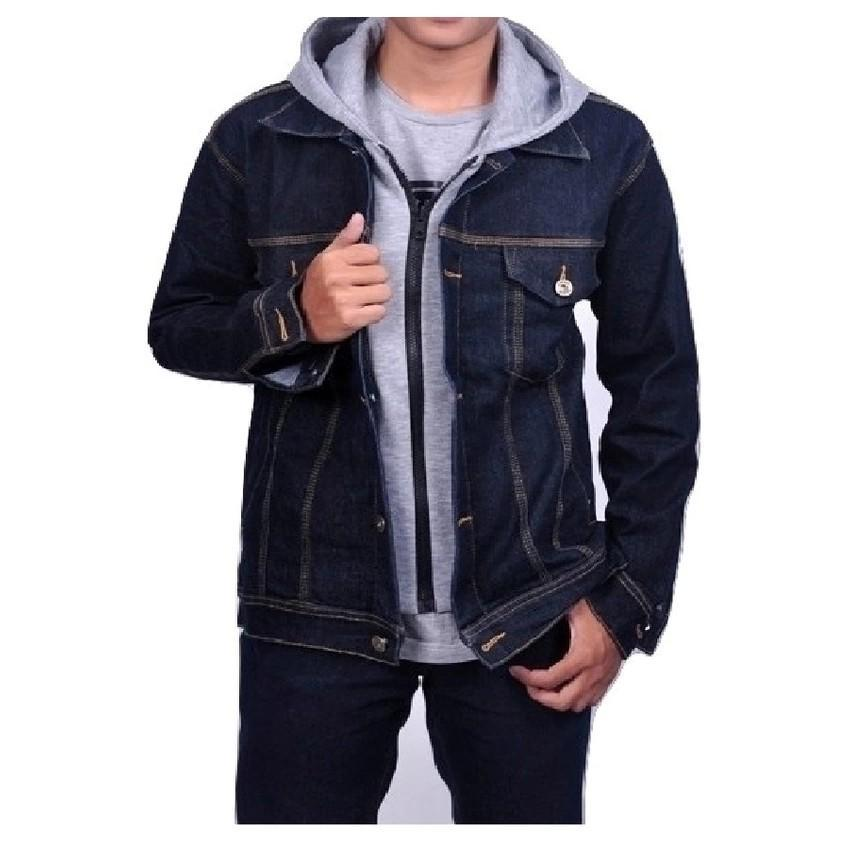jacket: (150, 40, 715, 649)
